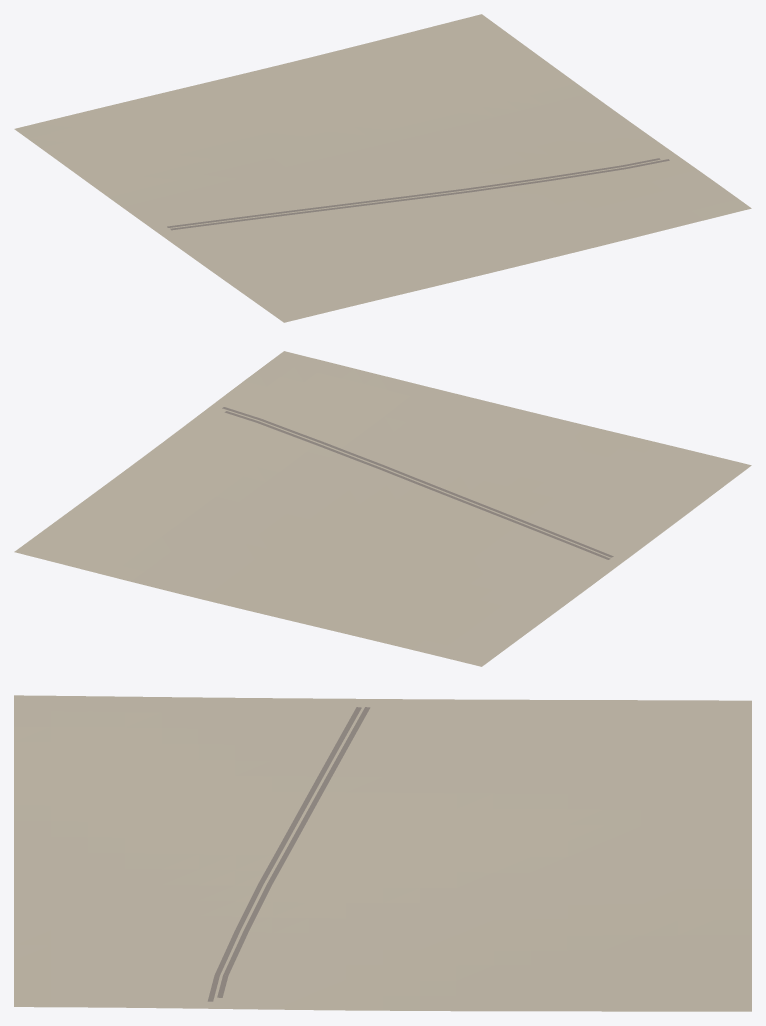
The model's file is bolak_-23_-11.glb.
3 views of the same model, one above another, from view 1: azimuth 30°, elevation 25°; view 2: azimuth 150°, elevation 25°; view 3: azimuth 270°, elevation 25° (orthographic). The views are drawn at different scales.
Visible parts, largest first — view 1: Yer_Tuproq-col, Temir_Yol; view 2: Yer_Tuproq-col, Temir_Yol; view 3: Yer_Tuproq-col, Temir_Yol.
Part boxes in pixels (bbox=[...]): Yer_Tuproq-col: bbox=[14, 14, 751, 322]; Temir_Yol: bbox=[167, 158, 669, 230]; Yer_Tuproq-col: bbox=[14, 351, 751, 666]; Temir_Yol: bbox=[222, 407, 613, 559]; Yer_Tuproq-col: bbox=[14, 695, 751, 1011]; Temir_Yol: bbox=[207, 707, 370, 1001].
Bounding box in the file's own units: 400 × 3.94 × 400.
